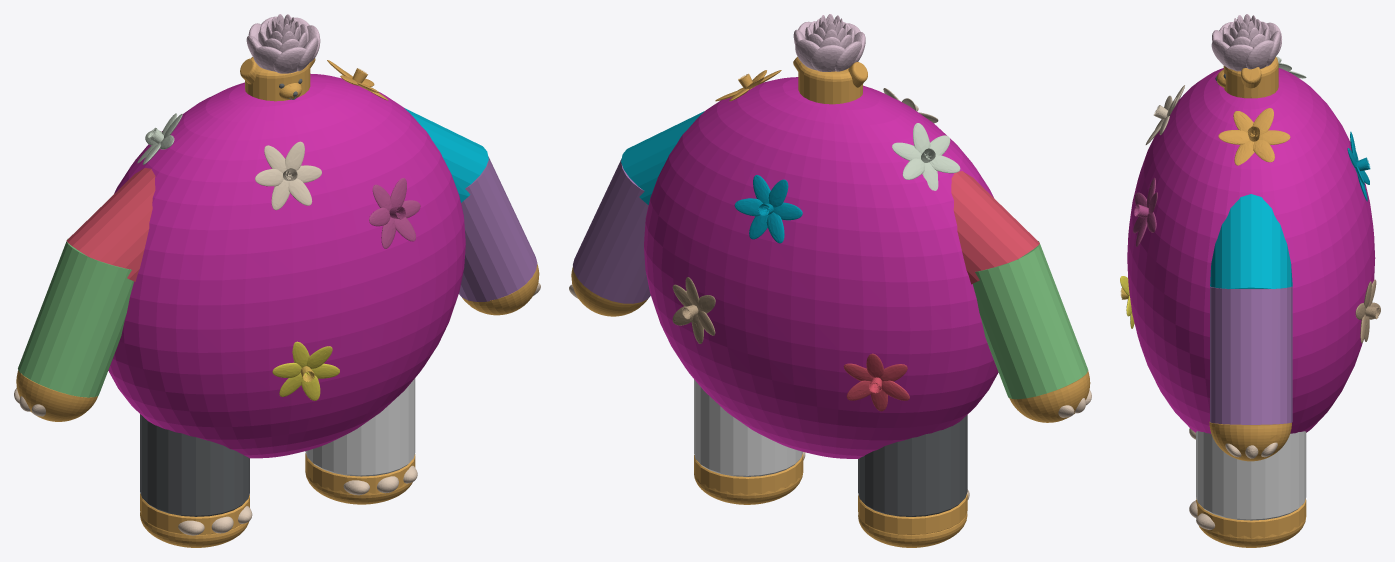
The model's file is flower_pip_1.glb.
The picture shows the model from 3 angles, left to right: view 1: azimuth 30°, elevation 25°; view 2: azimuth 150°, elevation 25°; view 3: azimuth 270°, elevation 25°; orthographic projection. The views are drawn at different scales.
Visible parts, largest first — view 1: Mesh_Mesh_head_geo.001_lambert2SG.001; view 2: Mesh_Mesh_head_geo.001_lambert2SG.001; view 3: Mesh_Mesh_head_geo.001_lambert2SG.001.
Part boxes in pixels (x1,y1,x2,y2): Mesh_Mesh_head_geo.001_lambert2SG.001: (14,14,540,547); Mesh_Mesh_head_geo.001_lambert2SG.001: (569,14,1091,547); Mesh_Mesh_head_geo.001_lambert2SG.001: (1120,14,1380,547).
Size of the model in its own units: 22 by 20.5 by 9.97.
